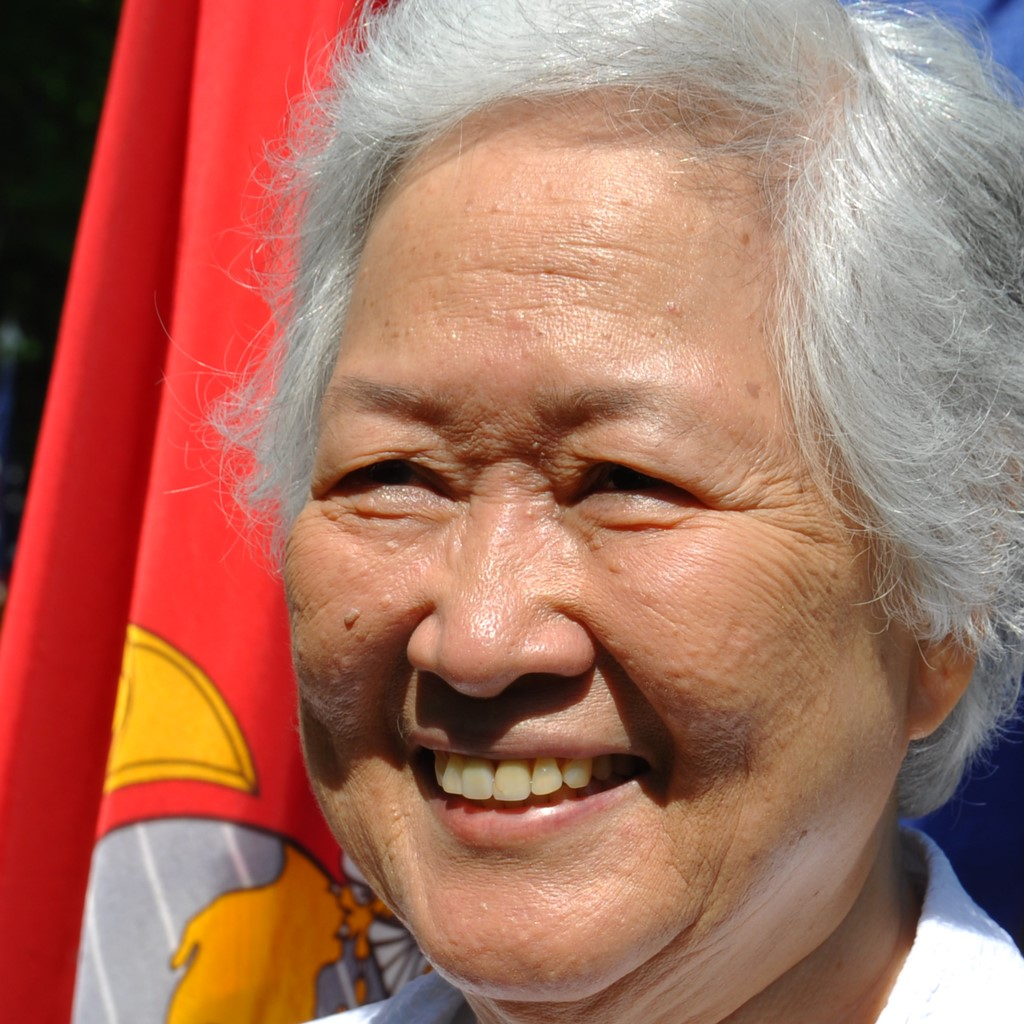sin_mascara: (272, 31, 960, 1006)
